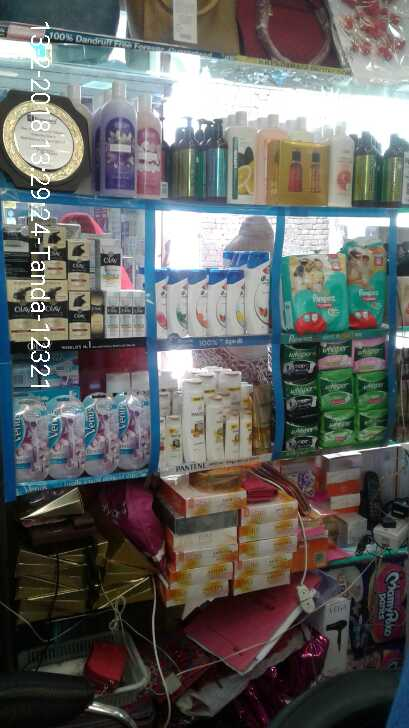venus: (49, 398, 85, 477), (119, 389, 153, 468), (15, 395, 46, 478), (85, 398, 119, 468)
